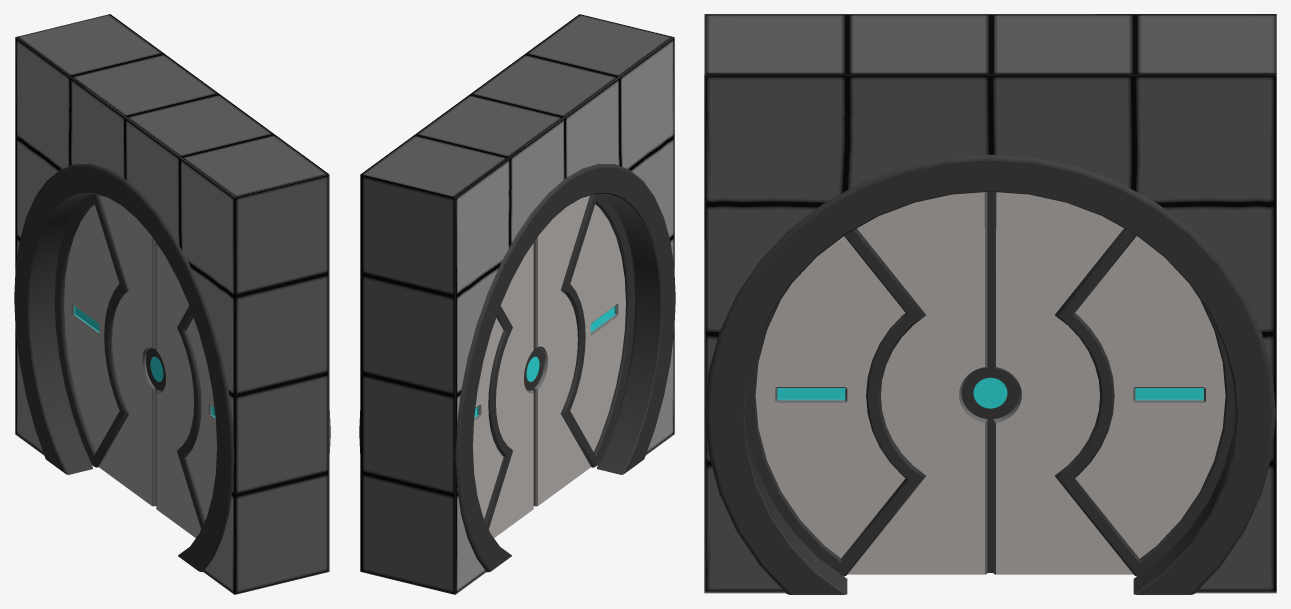
The model's file is door.obj.
3 renders of one model, left to right at view 1: azimuth 30°, elevation 25°; view 2: azimuth 150°, elevation 25°; view 3: azimuth 270°, elevation 25°, orthographic. The views are drawn at different scales.
Visible parts, largest first — view 1: Cube.001, p1_testchamber_door_wide.mdl/portal_door_01_wide_model.smd; view 2: Cube.001, p1_testchamber_door_wide.mdl/portal_door_01_wide_model.smd; view 3: p1_testchamber_door_wide.mdl/portal_door_01_wide_model.smd, Cube.001.
Part boxes in pixels (x1,y1,x2,y2): Cube.001: (15, 14, 329, 594); p1_testchamber_door_wide.mdl/portal_door_01_wide_model.smd: (14, 163, 330, 571); Cube.001: (360, 14, 674, 594); p1_testchamber_door_wide.mdl/portal_door_01_wide_model.smd: (359, 163, 675, 572); p1_testchamber_door_wide.mdl/portal_door_01_wide_model.smd: (705, 154, 1275, 594); Cube.001: (704, 14, 1276, 593).
Bounding box in the file's own units: 0.529 × 2 × 2.
